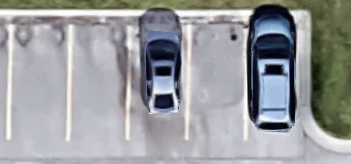Occupied: (129, 18, 187, 140), (246, 18, 302, 140)
Vacant: (9, 18, 69, 140), (69, 17, 128, 139), (187, 18, 246, 140)
